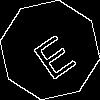E: (25, 25, 79, 82)
